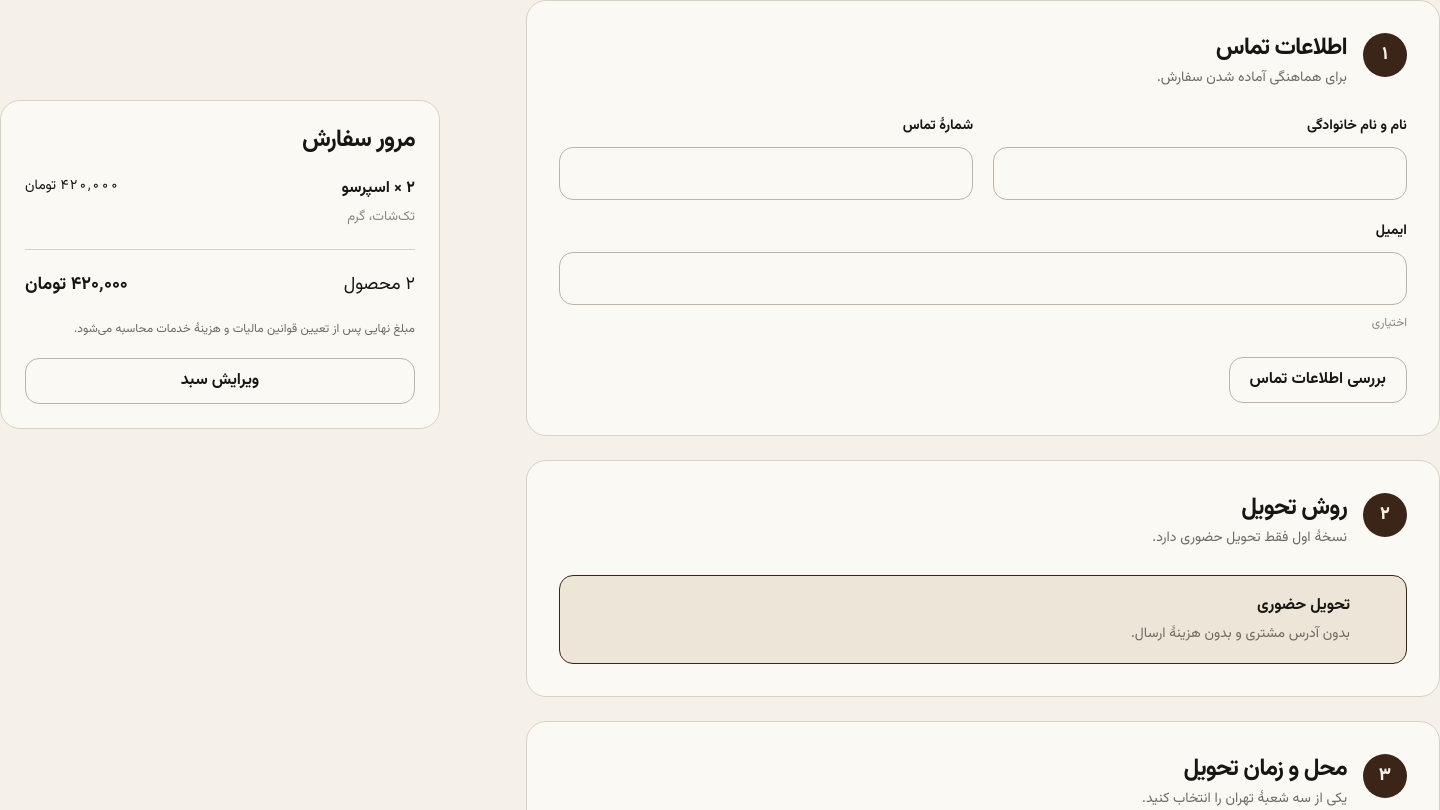
CheckoutContent › shows a pickup-only review without transmitting preview contact data
The image size is (1440, 810).
Expected: the text "تحویل حضوری" is shown, [1257, 593, 1350, 618]
Expected: the text "۲ × اسپرسو" is shown, [342, 175, 415, 202]
Type "سعید رضایی" into the field labelled "نام و نام خانوادگی" at x=1200, y=173, box [993, 147, 1407, 200]
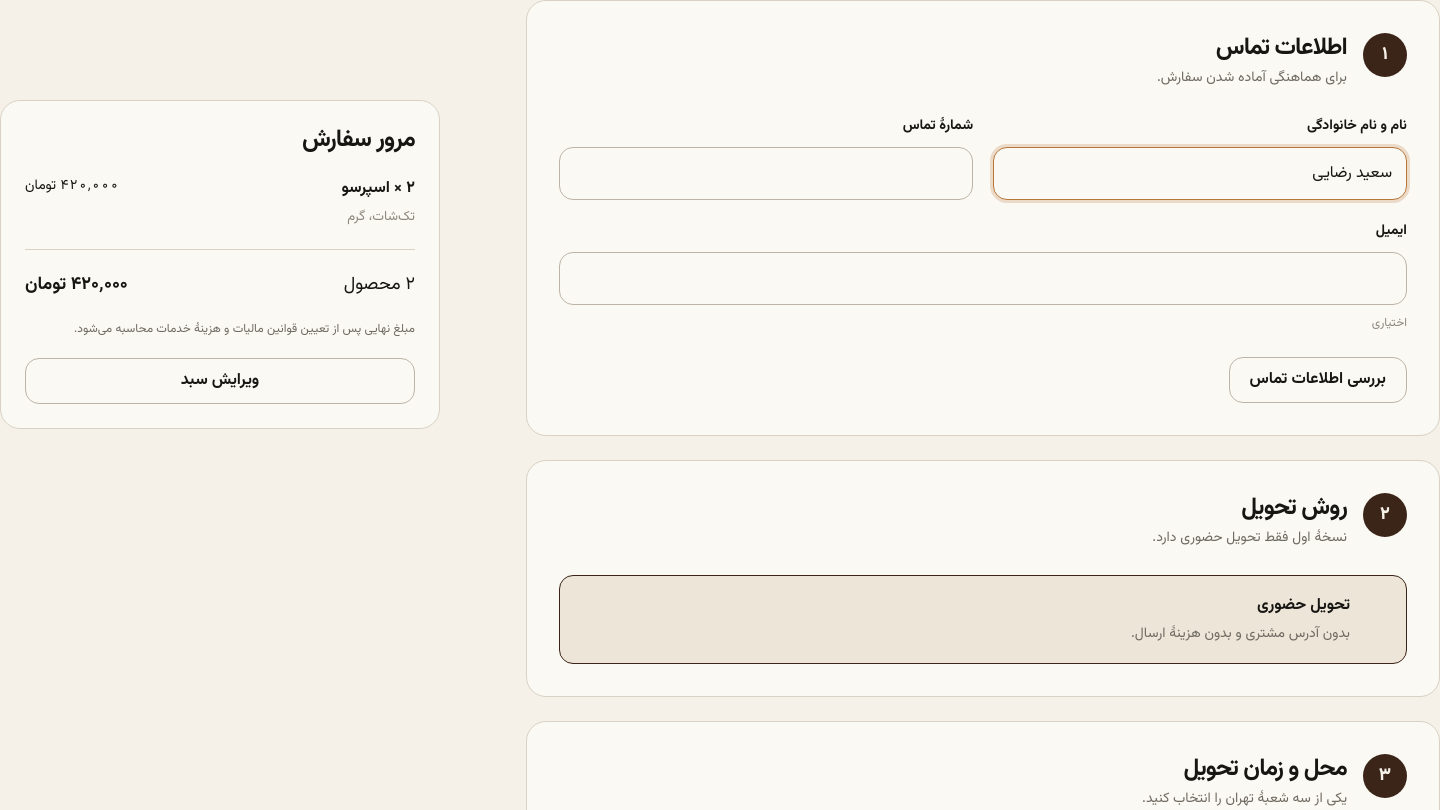
Type "۰۹۱۲۱۲۳۴۵۶۷" into the field labelled "شمارهٔ تماس" at x=766, y=173, box [559, 147, 973, 200]
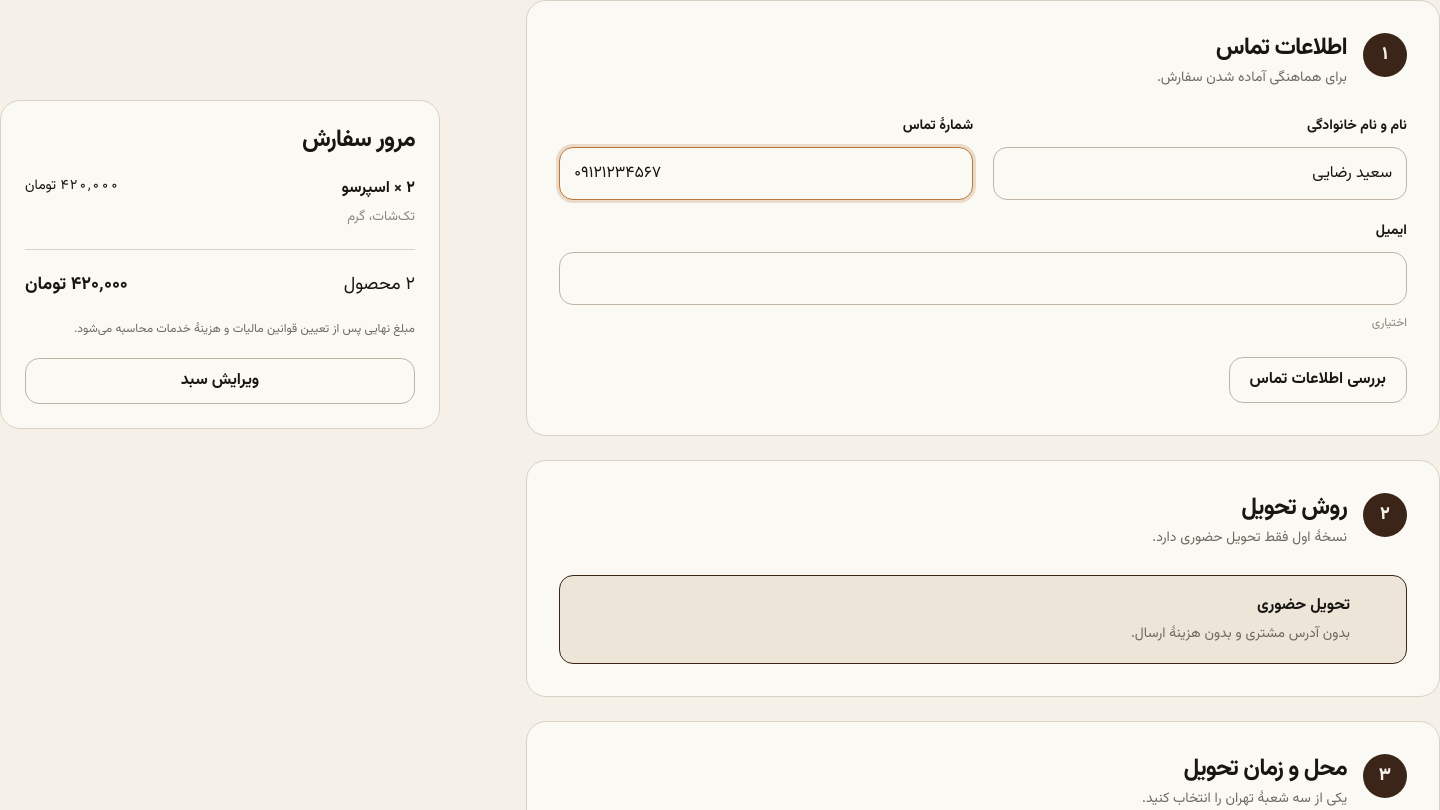
Click the button "بررسی اطلاعات تماس" at x=1318, y=380, box [1228, 357, 1407, 403]
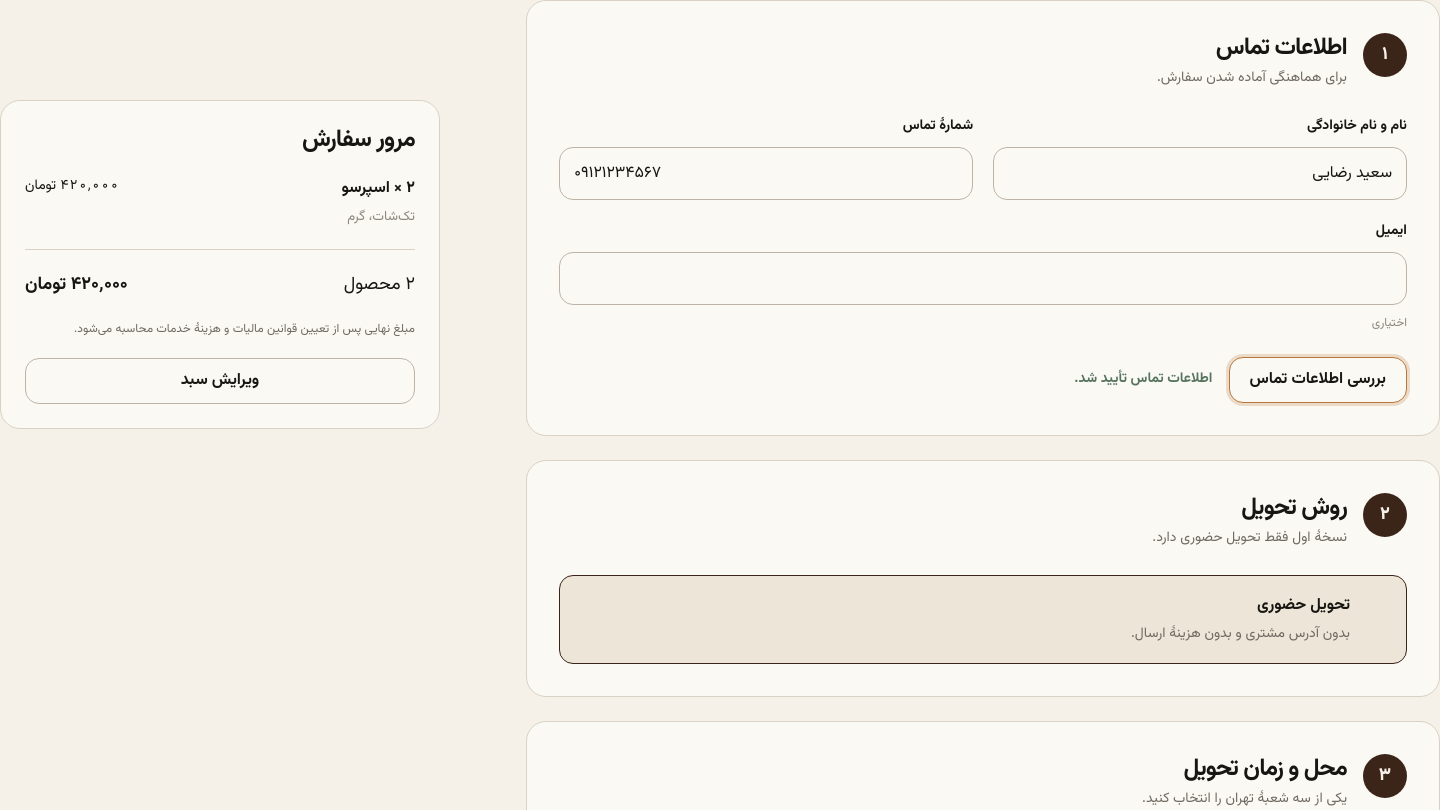
Result: the text "اطلاعات تماس تأیید شد." is shown at [1074, 368, 1212, 392]
